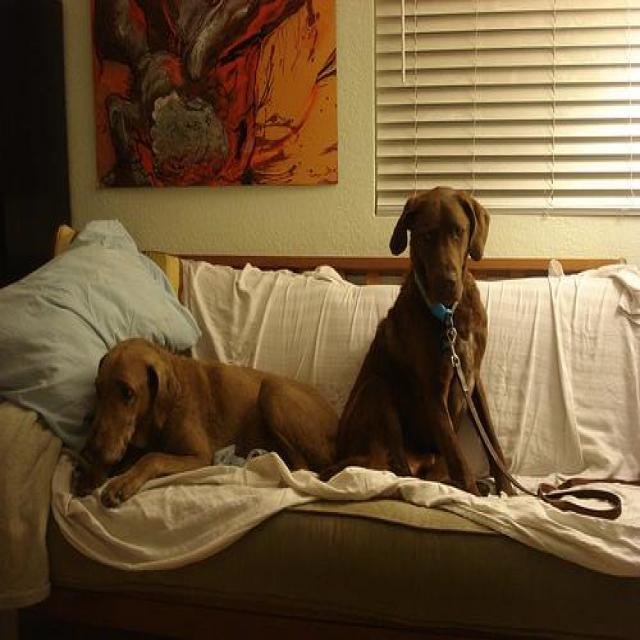laying down: (71, 332, 345, 515)
sitting: (334, 182, 521, 502)
